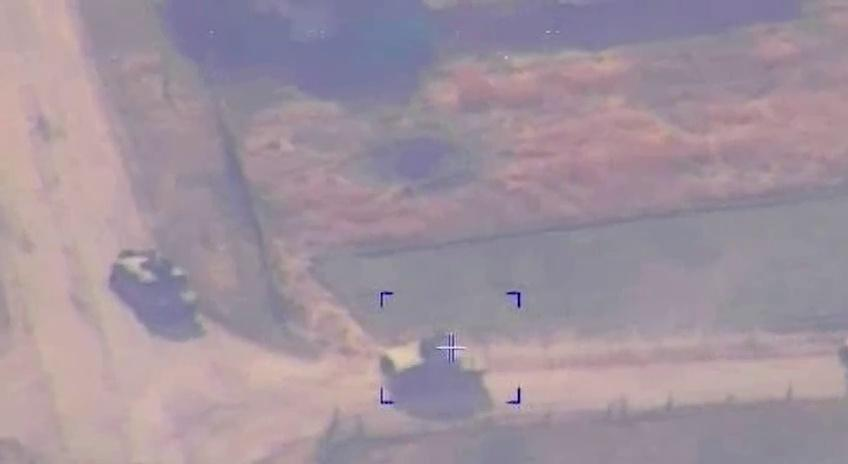armored_car: (380, 330, 491, 402), (107, 249, 198, 326)
